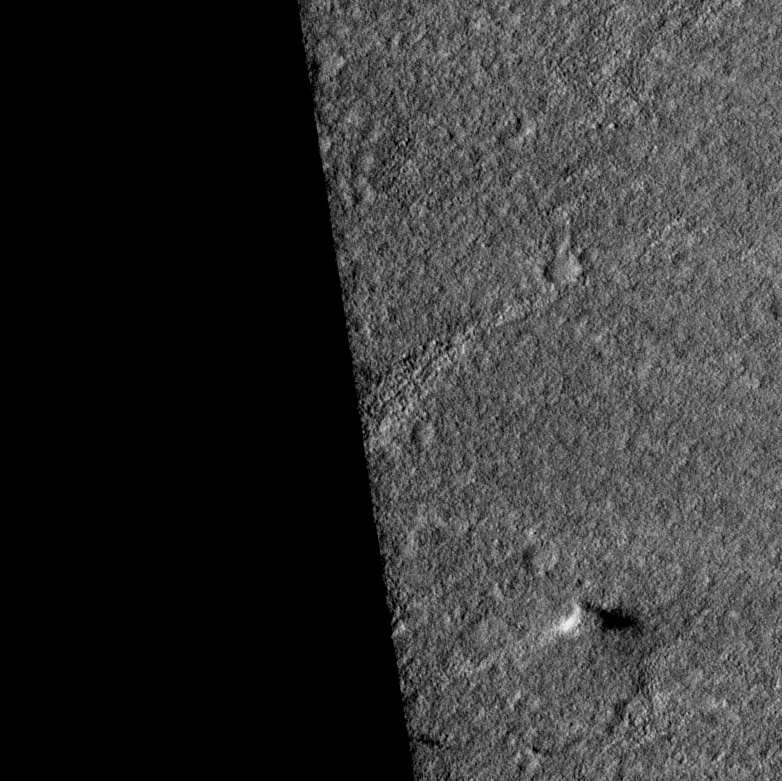dust_devil: (552, 597, 642, 641)
